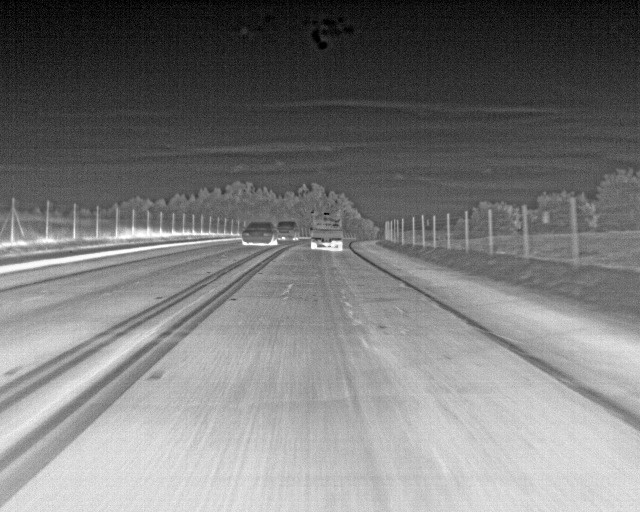vehicle: (306, 209, 351, 252), (243, 220, 278, 249), (278, 220, 302, 240)
